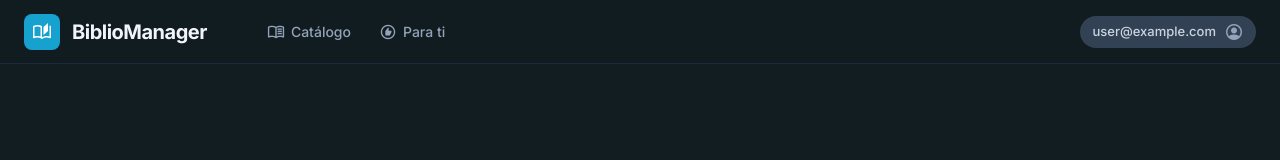
Test: HeaderComponent › Authenticated state (currentUser has email) › should toggle dropdown on click
Click the button with class "header__user" at (1168, 32), box top-left (1080, 16), bottom-right (1256, 48)
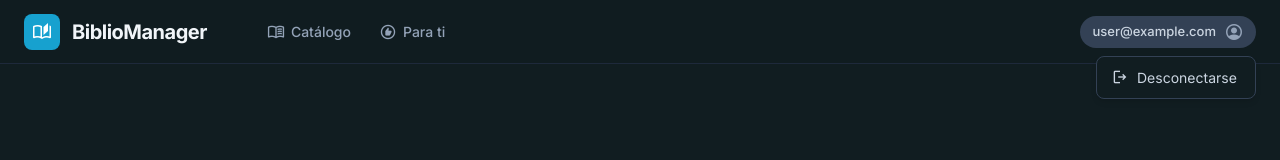
Now the menu with class "header__dropdown" is shown, box top-left (1096, 56), bottom-right (1256, 98)
